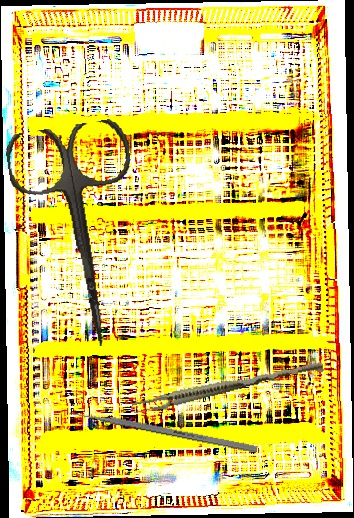Iris Scissors: (3, 116, 159, 357)
Pusher: (60, 406, 258, 454)
Tissue Forceps: (130, 354, 325, 419)
